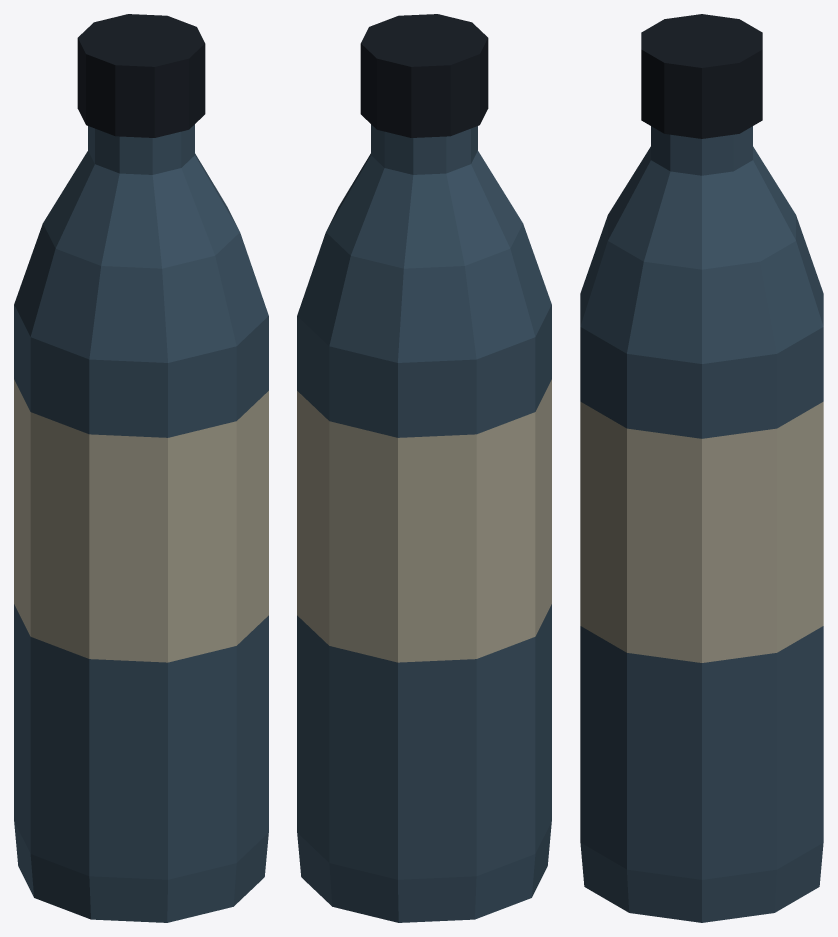
The model's file is SM_WaterBottle.fbx.
3 renders of one model, left to right at view 1: azimuth 30°, elevation 25°; view 2: azimuth 150°, elevation 25°; view 3: azimuth 270°, elevation 25°, orthographic.
Visible parts, largest first — view 1: SM_WaterBottle; view 2: SM_WaterBottle; view 3: SM_WaterBottle.
Part boxes in pixels (<box>): SM_WaterBottle: <box>14,14,268,922</box>; SM_WaterBottle: <box>297,14,551,922</box>; SM_WaterBottle: <box>580,14,823,922</box>.
Size of the model in its own units: 6.2 by 22.2 by 5.9.
